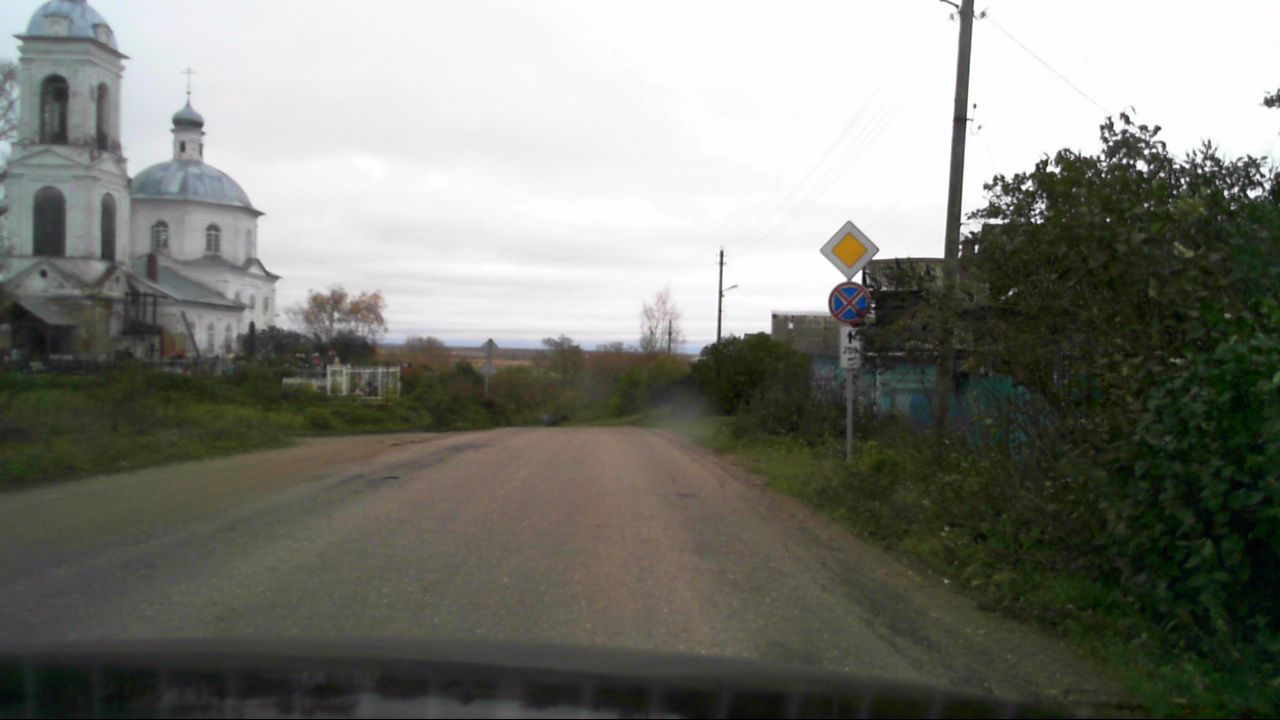No Parking: (829, 282, 869, 323)
